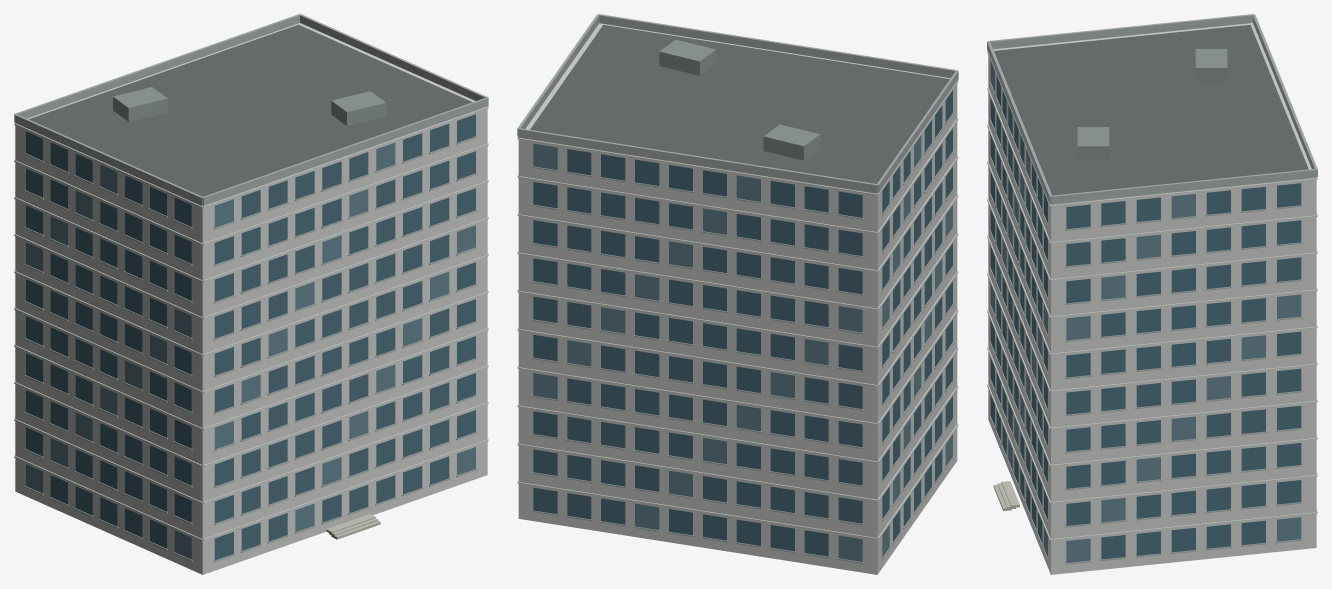
Rendered from 软件园与科创楼-013.glb.
3 views of the same model, side by side, from view 1: azimuth 30°, elevation 25°; view 2: azimuth 150°, elevation 25°; view 3: azimuth 270°, elevation 25° (orthographic). The views are drawn at different scales.
Parts seen in each view (by area): view 1: 软件园与科创楼-013; view 2: 软件园与科创楼-013; view 3: 软件园与科创楼-013.
Boxes of the visible parts, bbox=[...] form: 软件园与科创楼-013: bbox=[14, 14, 488, 574]; 软件园与科创楼-013: bbox=[517, 14, 958, 574]; 软件园与科创楼-013: bbox=[987, 14, 1317, 574].
Bounding box in the file's own units: 38.05 × 37.42 × 29.08.
